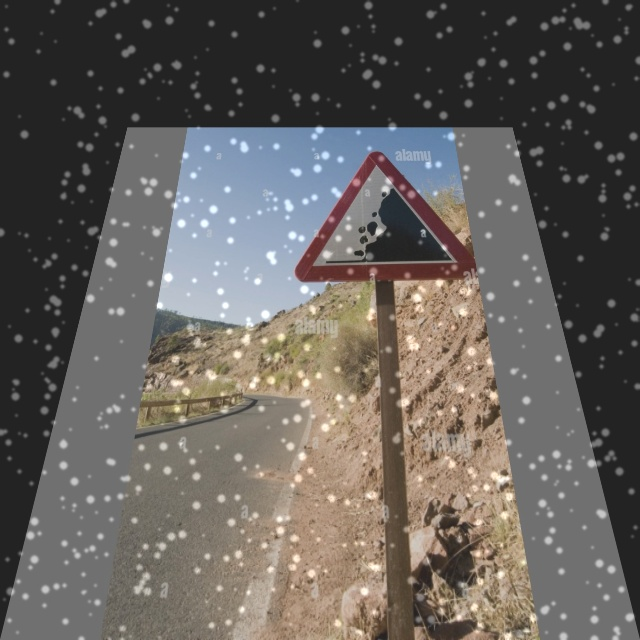Falling_Rocks: (316, 154, 467, 272)
